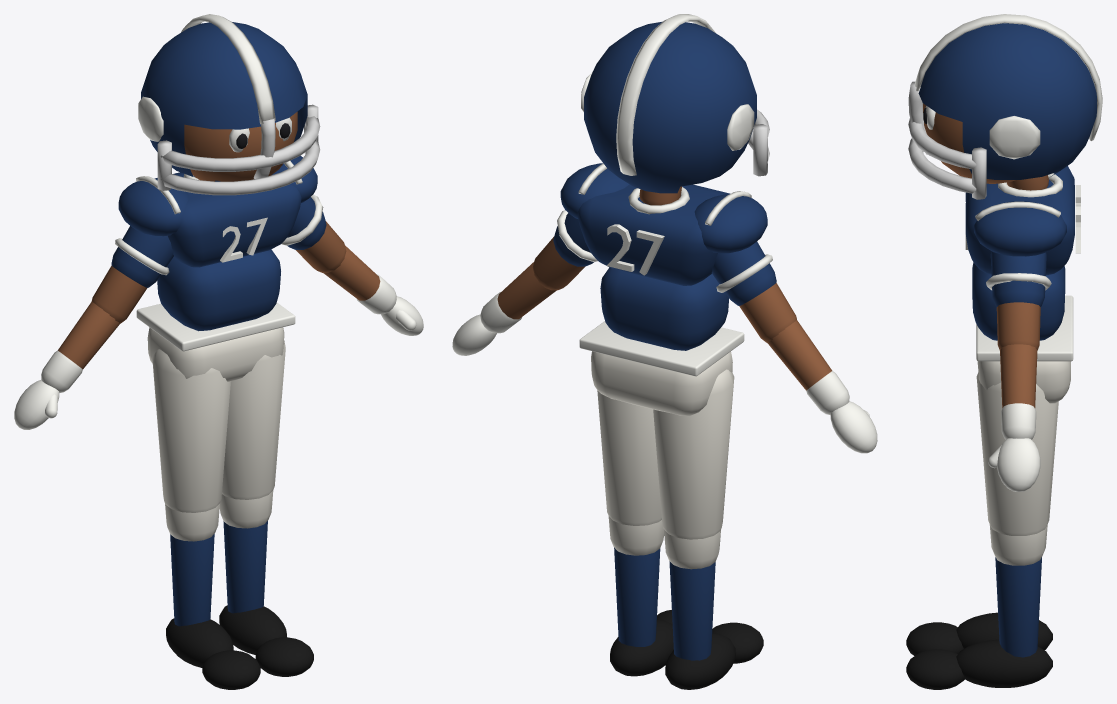
Rendered from vinyl.glb.
3 views of the same model, side by side, from view 1: azimuth 30°, elevation 25°; view 2: azimuth 150°, elevation 25°; view 3: azimuth 270°, elevation 25° (orthographic). The views are drawn at different scales.
Visible parts, largest first — view 1: head, thorax, thighR, lumbar, thighL, pelvis, shankR, shankL, upperArmR, forearmR, upperArmL, forearmL (+6 smaller); view 2: head, thorax, thighR, pelvis, lumbar, thighL, shankR, shankL, upperArmR, forearmR, upperArmL, forearmL (+5 smaller); view 3: head, thorax, thighL, shankL, upperArmL, pelvis, forearmL, footL, lumbar, handL, toesL, footR (+2 smaller).
Part boxes in pixels (box(x1,y1,x2,y2)): head: box(138, 14, 320, 195); thorax: box(118, 156, 317, 267); thighR: box(152, 349, 230, 512); lumbar: box(157, 249, 280, 331); thighL: box(222, 340, 285, 499); pelvis: box(136, 302, 295, 381); shankR: box(165, 503, 219, 626); shankL: box(219, 490, 273, 613); upperArmR: box(92, 226, 173, 323); forearmR: box(41, 301, 119, 392); upperArmL: box(281, 195, 346, 272); forearmL: box(323, 245, 396, 314); head: box(581, 14, 769, 193); thorax: box(560, 163, 767, 285); thighR: box(653, 369, 734, 539); pelvis: box(579, 321, 744, 415); lumbar: box(600, 267, 728, 350); thighL: box(597, 390, 661, 525); shankR: box(664, 529, 720, 660); shankL: box(608, 516, 664, 646); upperArmR: box(711, 241, 796, 342); forearmR: box(767, 320, 849, 415); upperArmL: box(532, 210, 597, 290); forearmL: box(480, 262, 556, 333); head: box(908, 14, 1102, 199); thorax: box(965, 166, 1080, 275); thighL: box(976, 372, 1058, 535); shankL: box(989, 524, 1047, 657); upperArmL: box(986, 251, 1051, 350); pelvis: box(976, 295, 1073, 403); forearmL: box(1000, 344, 1037, 439); footL: box(956, 639, 1052, 687); lumbar: box(972, 262, 1065, 340); handL: box(988, 438, 1040, 491); toesL: box(906, 649, 964, 689); footR: box(956, 612, 1052, 650).
Bounding box in the file's own units: 1.44 × 2.16 × 0.5854.
